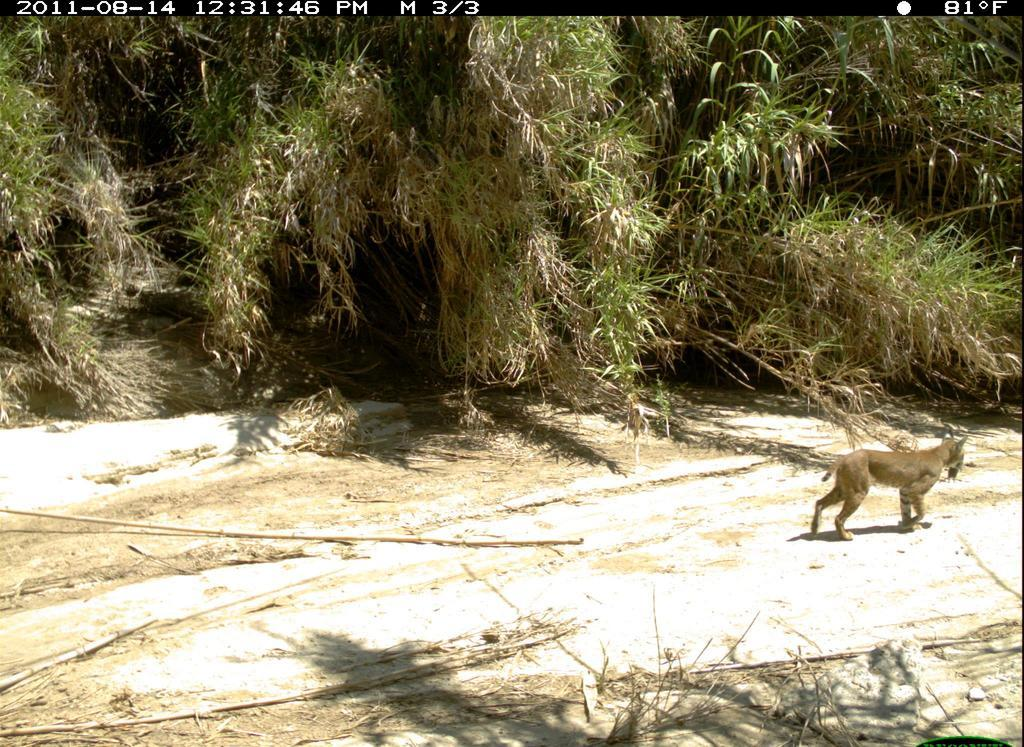bobcat: (801, 432, 973, 550)
